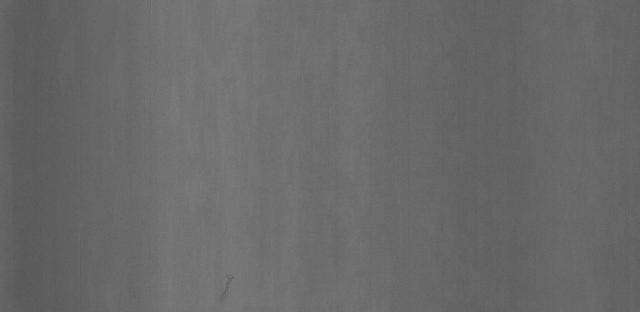water_spot: (188, 258, 248, 311)
